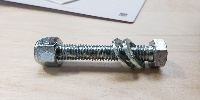FinishedAssembly: (30, 34, 170, 73)
